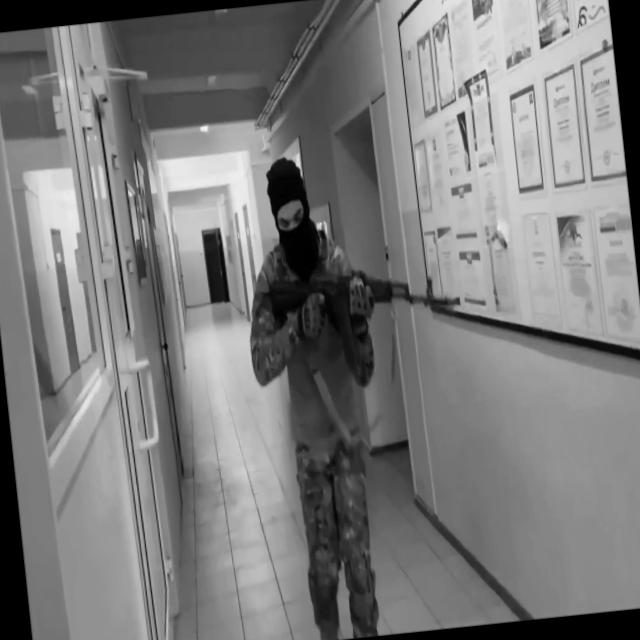gun: (266, 253, 457, 380)
person with a gun: (228, 138, 483, 640)
